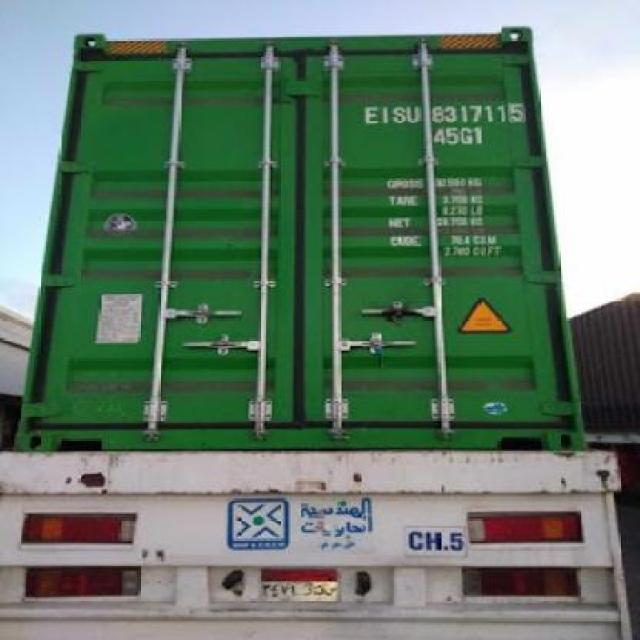ISO: (436, 124, 484, 146)
container_number: (366, 100, 524, 126)
